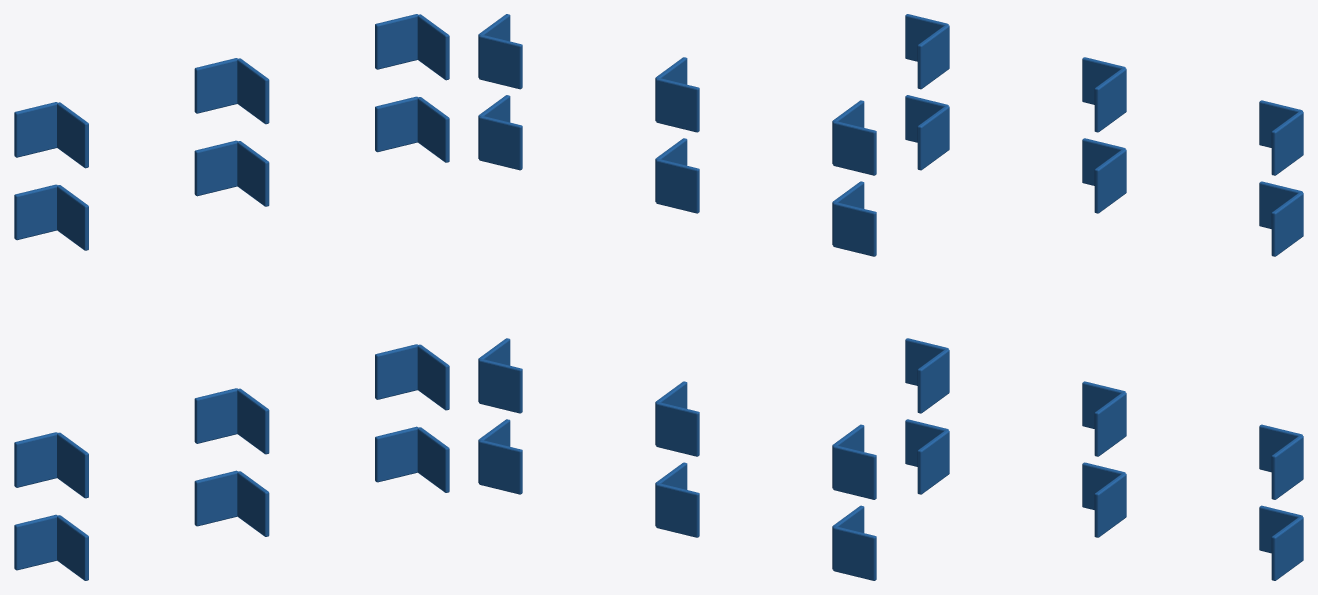
Rendered from chair.obj.
3 renders of one model, left to right at view 1: azimuth 30°, elevation 25°; view 2: azimuth 150°, elevation 25°; view 3: azimuth 330°, elevation 25°, orthographic.
Parts seen in each view (by area): view 1: chair_seat_1_0_0, chair_seat_1_0_1, chair_seat_1_1_0, chair_seat_1_1_1, chair_seat_0_0_0, chair_seat_0_0_1, chair_seat_0_1_1, chair_seat_2_1_1, chair_seat_0_1_0, chair_seat_2_0_1, chair_seat_2_1_0, chair_seat_2_0_0 (+12 smaller); view 2: chair_seat_0_0_0, chair_seat_0_0_1, chair_seat_0_1_0, chair_seat_0_1_1, chair_seat_1_0_0, chair_seat_1_0_1, chair_seat_2_1_1, chair_seat_1_1_1, chair_seat_2_0_1, chair_seat_1_1_0, chair_seat_2_0_0, chair_seat_2_1_0 (+12 smaller); view 3: chair_back_0_1_0, chair_back_0_1_1, chair_back_1_0_0, chair_back_1_0_1, chair_back_2_0_0, chair_back_2_0_1, chair_back_2_1_0, chair_back_2_1_1, chair_back_1_1_0, chair_back_1_1_1, chair_back_0_0_0, chair_back_0_0_1 (+12 smaller).
Boxes of the visible parts, box(x1,y1,x2,y2) form: chair_seat_1_0_0: box(194, 470, 237, 526); chair_seat_1_0_1: box(194, 388, 237, 443); chair_seat_1_1_0: box(194, 140, 237, 196); chair_seat_1_1_1: box(194, 58, 237, 113); chair_seat_0_0_0: box(14, 514, 57, 570); chair_seat_0_0_1: box(14, 432, 57, 487); chair_seat_0_1_1: box(14, 102, 57, 157); chair_seat_2_1_1: box(375, 14, 417, 69); chair_seat_0_1_0: box(14, 184, 57, 240); chair_seat_2_0_1: box(375, 344, 417, 399); chair_seat_2_1_0: box(375, 96, 417, 152); chair_seat_2_0_0: box(375, 426, 417, 482); chair_seat_0_0_0: box(833, 526, 876, 580); chair_seat_0_0_1: box(833, 445, 876, 499); chair_seat_0_1_0: box(833, 202, 876, 256); chair_seat_0_1_1: box(833, 121, 876, 175); chair_seat_1_0_0: box(656, 483, 699, 537); chair_seat_1_0_1: box(656, 402, 699, 456); chair_seat_2_1_1: box(479, 34, 522, 89); chair_seat_1_1_1: box(656, 78, 699, 132); chair_seat_2_0_1: box(479, 359, 522, 413); chair_seat_1_1_0: box(656, 159, 699, 213); chair_seat_2_0_0: box(479, 440, 522, 494); chair_seat_2_1_0: box(479, 115, 522, 170); chair_back_0_1_0: box(917, 105, 949, 170); chair_back_0_1_1: box(917, 24, 949, 89); chair_back_1_0_0: box(1094, 473, 1126, 537); chair_back_1_0_1: box(1094, 392, 1126, 456); chair_back_2_0_0: box(1271, 516, 1303, 580); chair_back_2_0_1: box(1271, 435, 1303, 499); chair_back_2_1_0: box(1271, 192, 1303, 256); chair_back_2_1_1: box(1271, 111, 1303, 175); chair_back_1_1_0: box(1094, 149, 1126, 213); chair_back_1_1_1: box(1094, 68, 1126, 132); chair_back_0_0_0: box(917, 430, 949, 494); chair_back_0_0_1: box(917, 349, 949, 413).
Bounding box in the file's own units: 3.6 × 3.88 × 0.47.
